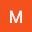Knife: (9, 10, 22, 23)
